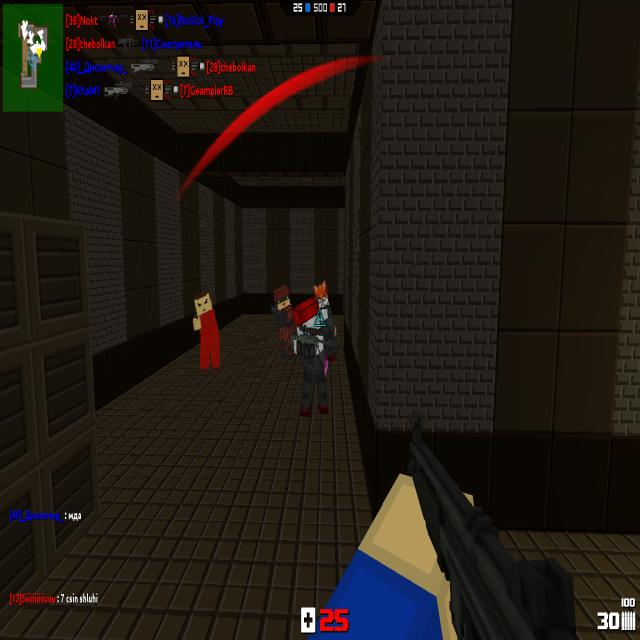enemy: (293, 298, 336, 418), (192, 288, 221, 374), (272, 282, 295, 358), (314, 283, 334, 342)
